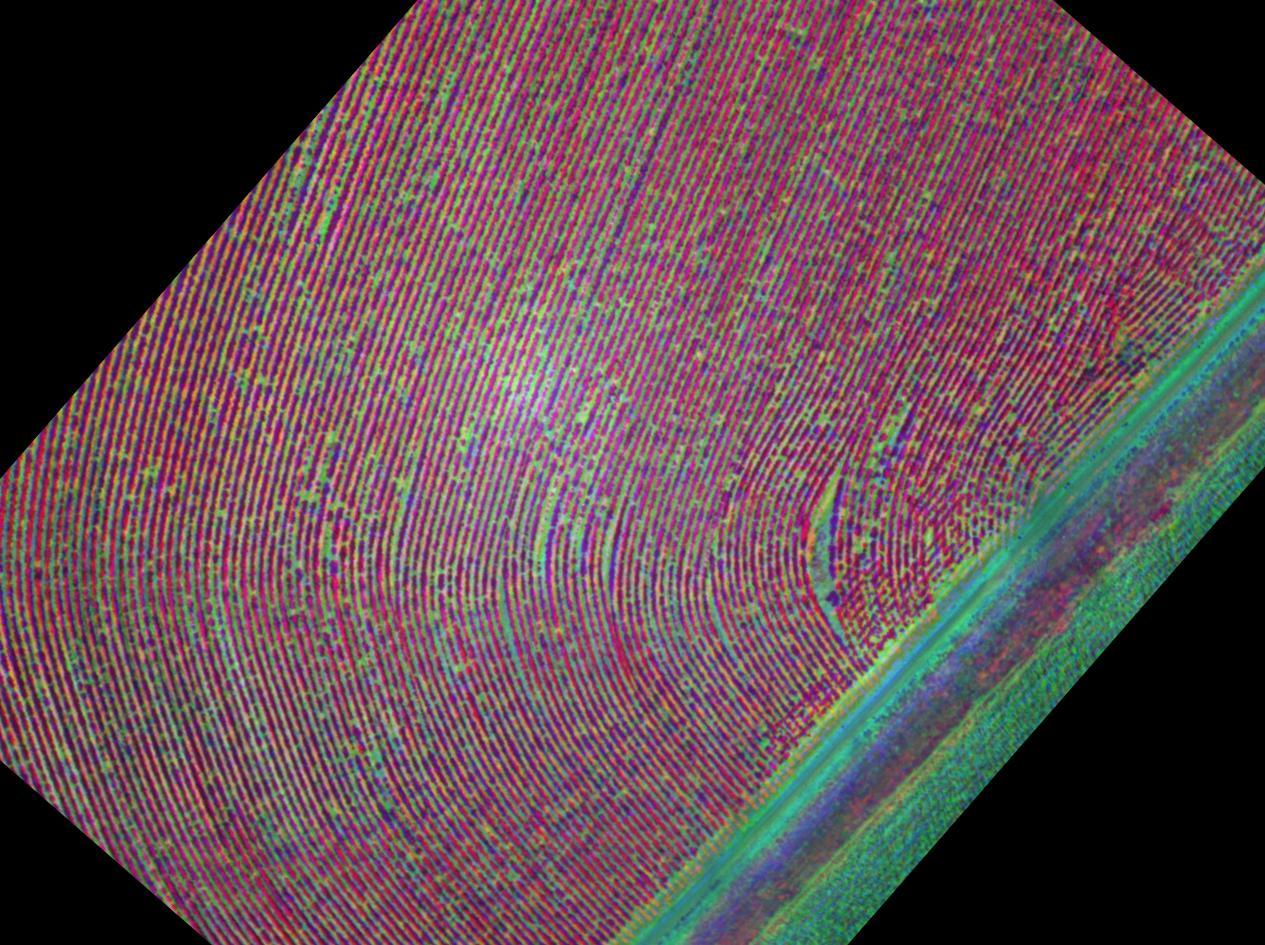dc: (761, 488, 870, 634), (473, 310, 576, 438), (258, 185, 356, 302), (316, 710, 405, 829), (68, 623, 170, 716)
